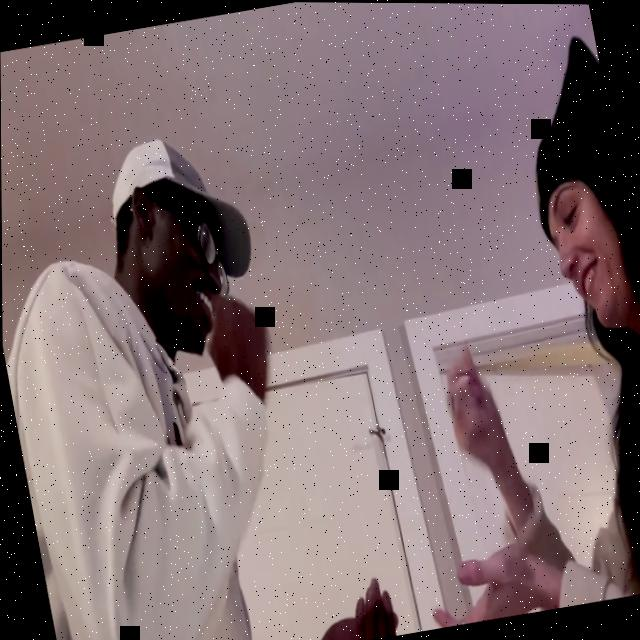Rock: (199, 289, 278, 403)
